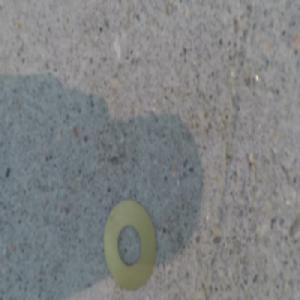Washer: (104, 193, 159, 282)
